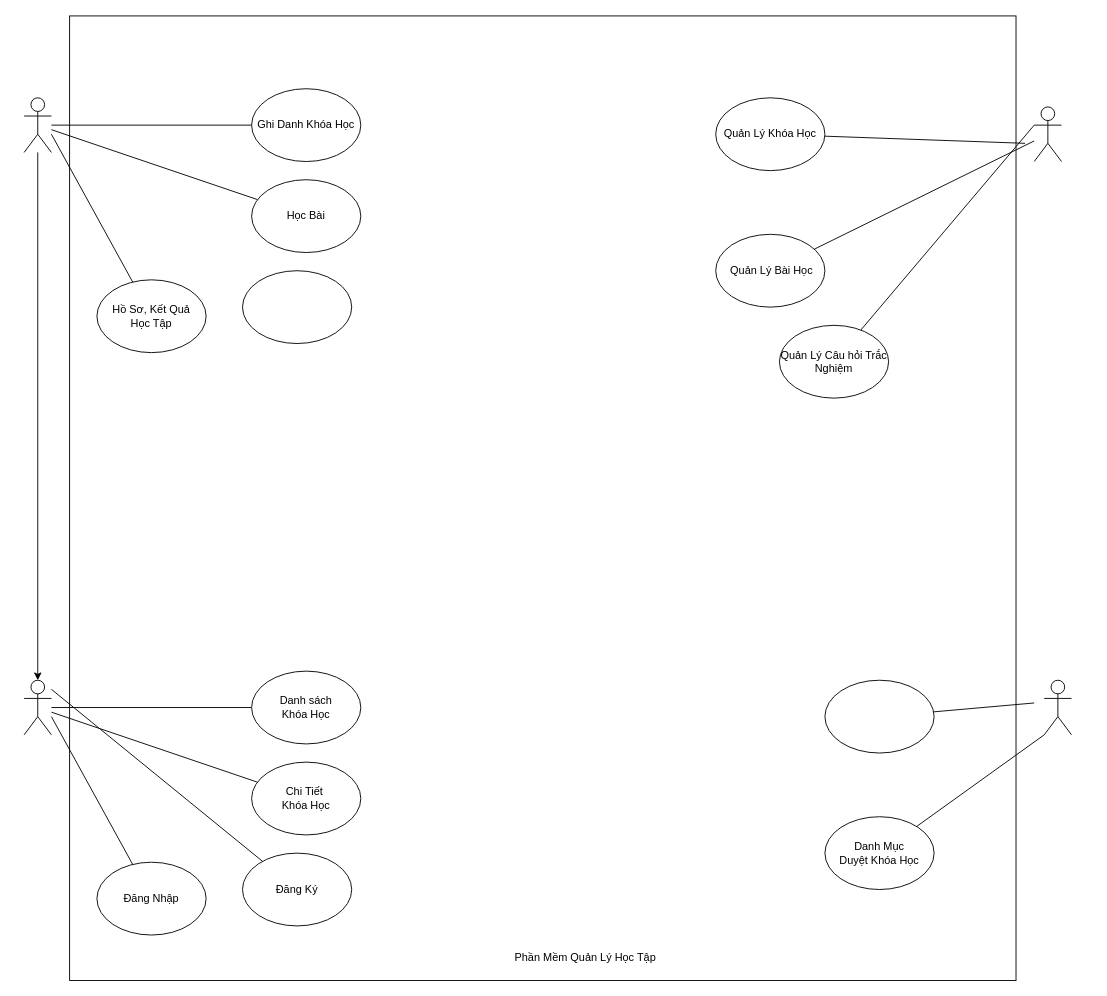
The diagram is 1107 pixels wide and 996 high, and some of its shapes have lost their labels. Each missing label, with the box of its shape:
Giảng Viên: (1033, 106, 1062, 162)
Học Viên: (23, 97, 51, 152)
Khách vãng lai: (23, 679, 51, 735)
Làm Bài Tập Trắc Nghiệm: (242, 270, 352, 344)
Quản Lý Người Dùng: (824, 679, 934, 753)
Quản Trị Viên: (1043, 679, 1072, 735)
